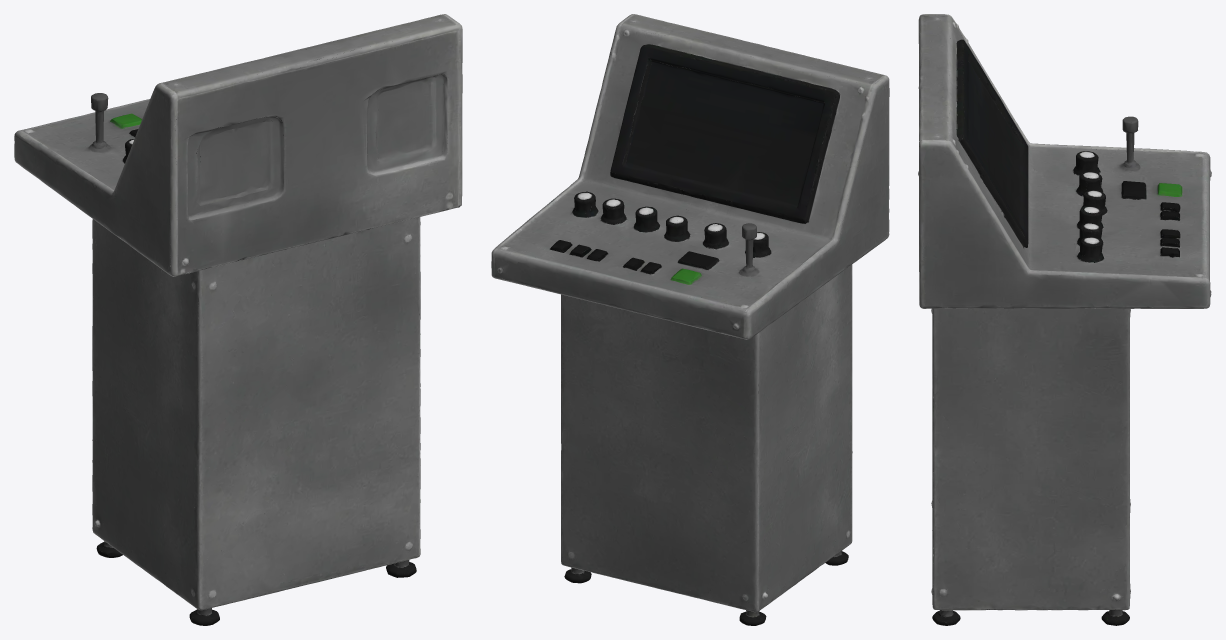
The model's file is prop-console.glb.
3 views of the same model, side by side, from view 1: azimuth 30°, elevation 25°; view 2: azimuth 150°, elevation 25°; view 3: azimuth 270°, elevation 25° (orthographic). The views are drawn at different scales.
Visible parts, largest first — view 1: Mesh_0; view 2: Mesh_0; view 3: Mesh_0.
Part boxes in pixels (<box>): Mesh_0: <box>14,14,462,625</box>; Mesh_0: <box>491,14,889,625</box>; Mesh_0: <box>918,14,1211,625</box>.
Size of the model in its own units: 0.5577 by 1 by 0.5324.
Materials: 1 (1 with a texture image).
